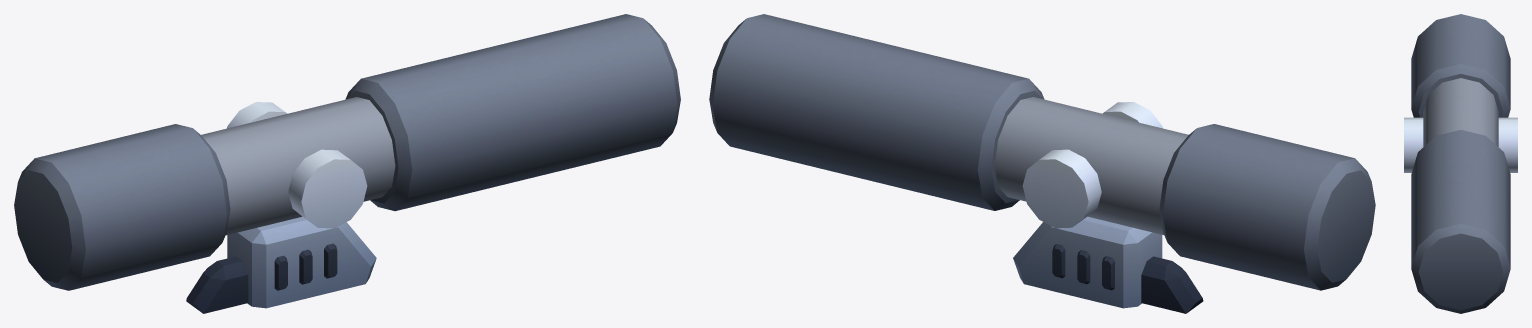
The model's file is Sight1.FBX.
3 views of the same model, side by side, from view 1: azimuth 30°, elevation 25°; view 2: azimuth 150°, elevation 25°; view 3: azimuth 270°, elevation 25° (orthographic). The views are drawn at different scales.
Visible parts, largest first — view 1: Cylinder008; view 2: Cylinder008; view 3: Cylinder008.
Boxes of the visible parts, x1,y1,x2,y2 form: Cylinder008: (14, 14, 680, 313); Cylinder008: (709, 14, 1375, 313); Cylinder008: (1404, 14, 1517, 313).
Bounding box in the file's own units: 16.34 × 4.65 × 3.65.
